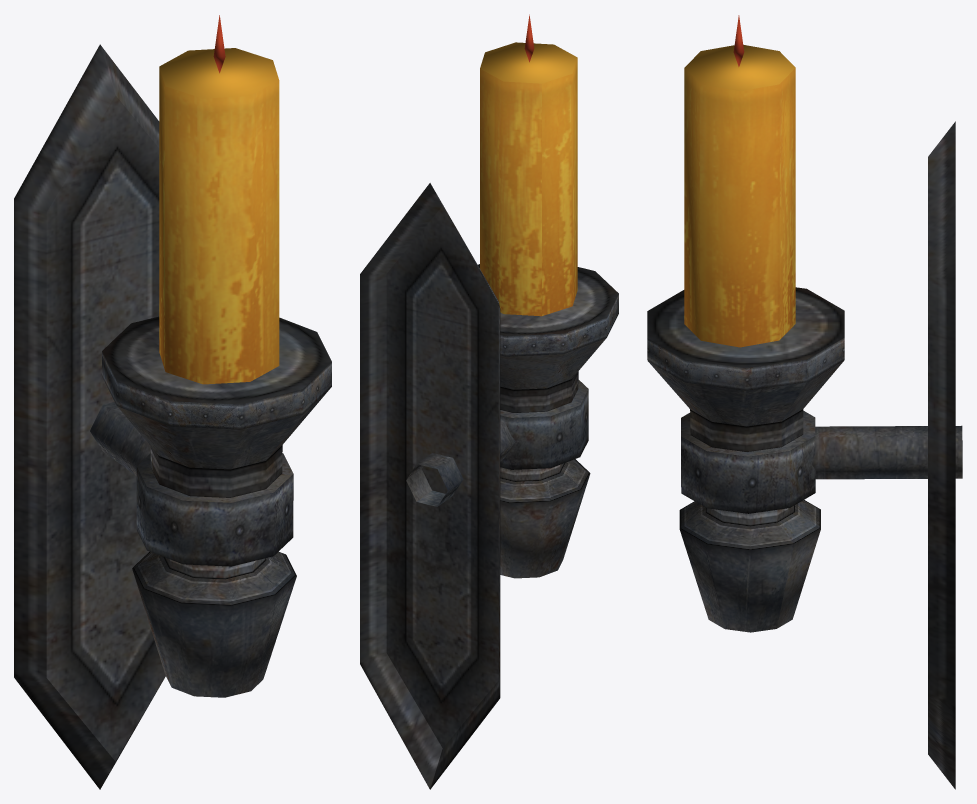
Rendered from chandelier3.fbx.
3 renders of one model, left to right at view 1: azimuth 30°, elevation 25°; view 2: azimuth 150°, elevation 25°; view 3: azimuth 270°, elevation 25°, orthographic. The views are drawn at different scales.
Parts seen in each view (by area): view 1: polySurface1603; view 2: polySurface1603; view 3: polySurface1603.
Part boxes in pixels (x1,y1,x2,y2): polySurface1603: (14,15,331,789); polySurface1603: (360,14,618,789); polySurface1603: (647,15,962,789).
Bounding box in the file's own units: 0.0849 × 0.3504 × 0.1291.
